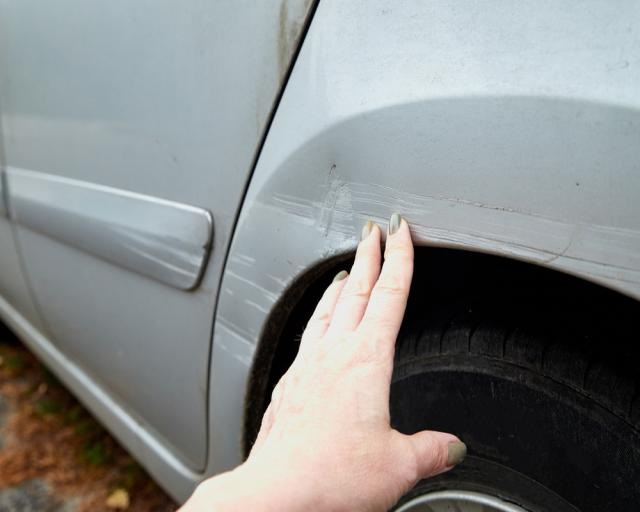dent: (247, 128, 358, 257)
scratch: (356, 176, 640, 304), (212, 253, 312, 377), (116, 223, 211, 282)
